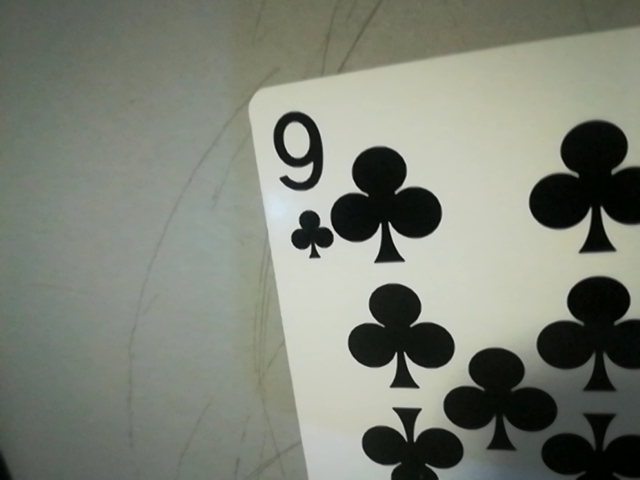mh 9: (263, 96, 335, 267)
